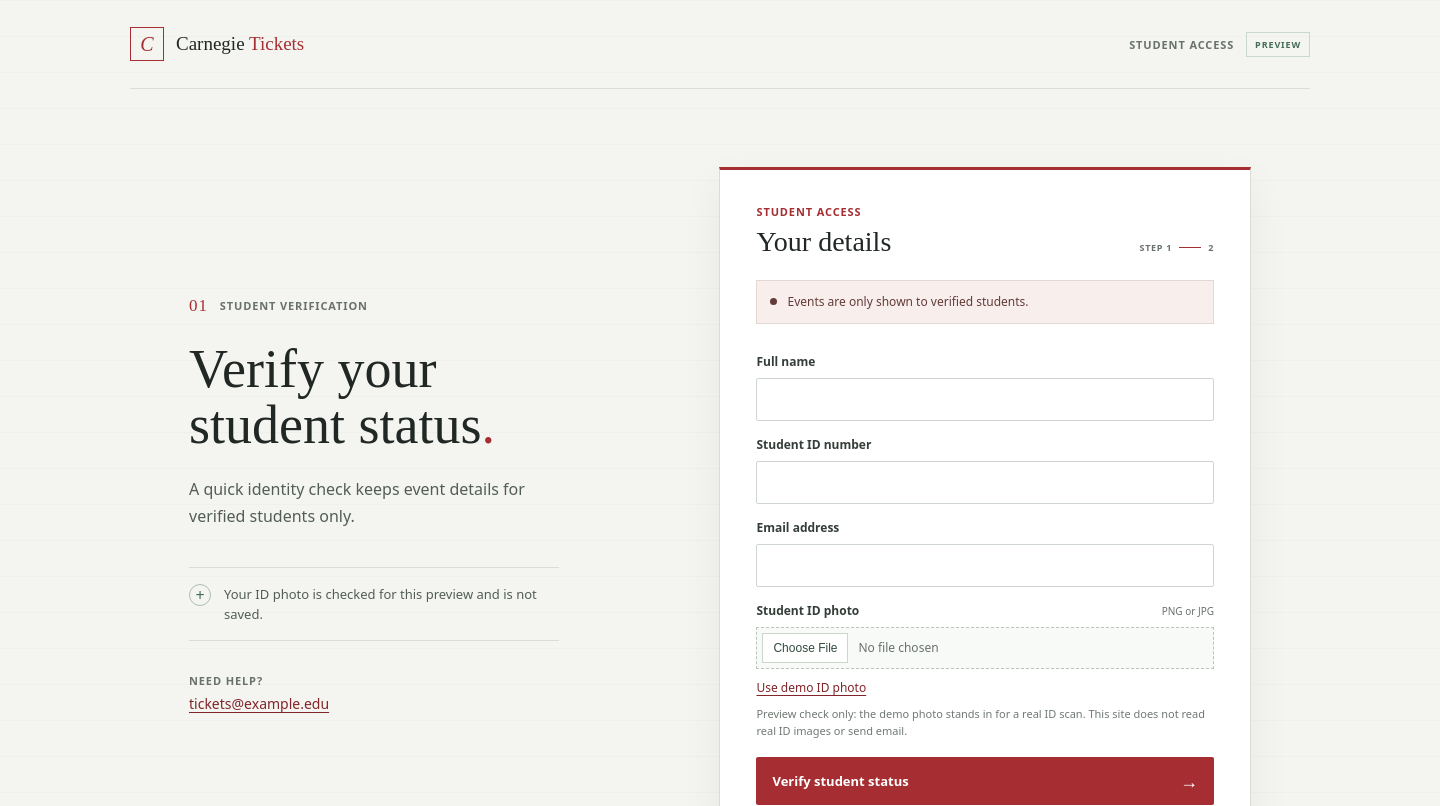
HW3 Story 7: Reserve event tickets for attendees › uses the normalized attendee name to prevent a second purchase for the same event
Step 1. Type "Jamie Rivera" into the field labelled "Full name" → (985, 400), box [756,378,1214,421]
Step 2. Type "A1234567" into the field labelled "Student ID number" → (985, 482), box [756,461,1214,504]
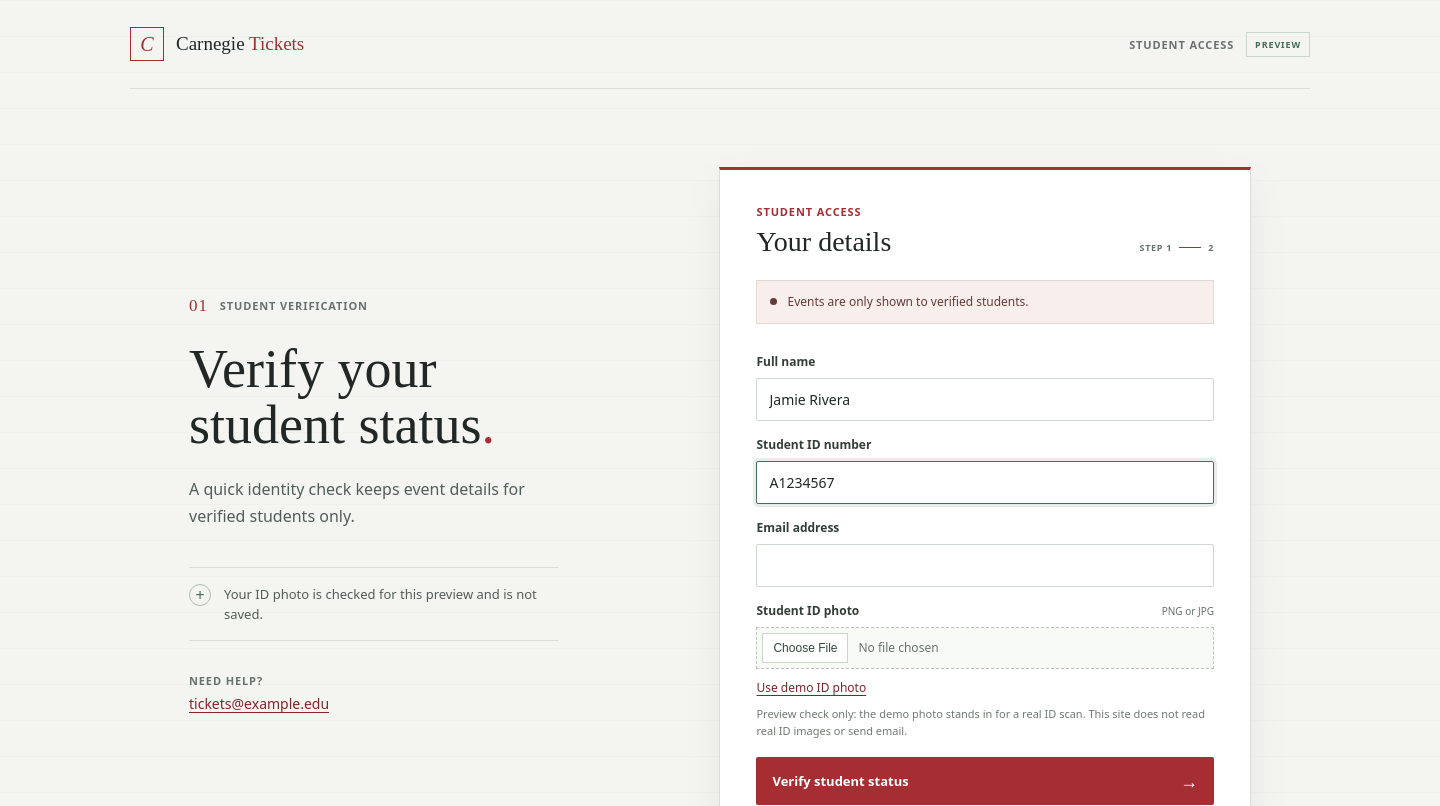
Step 3. Type "jamie@example.edu" into the field labelled "Email address" → (985, 566), box [756,544,1214,587]
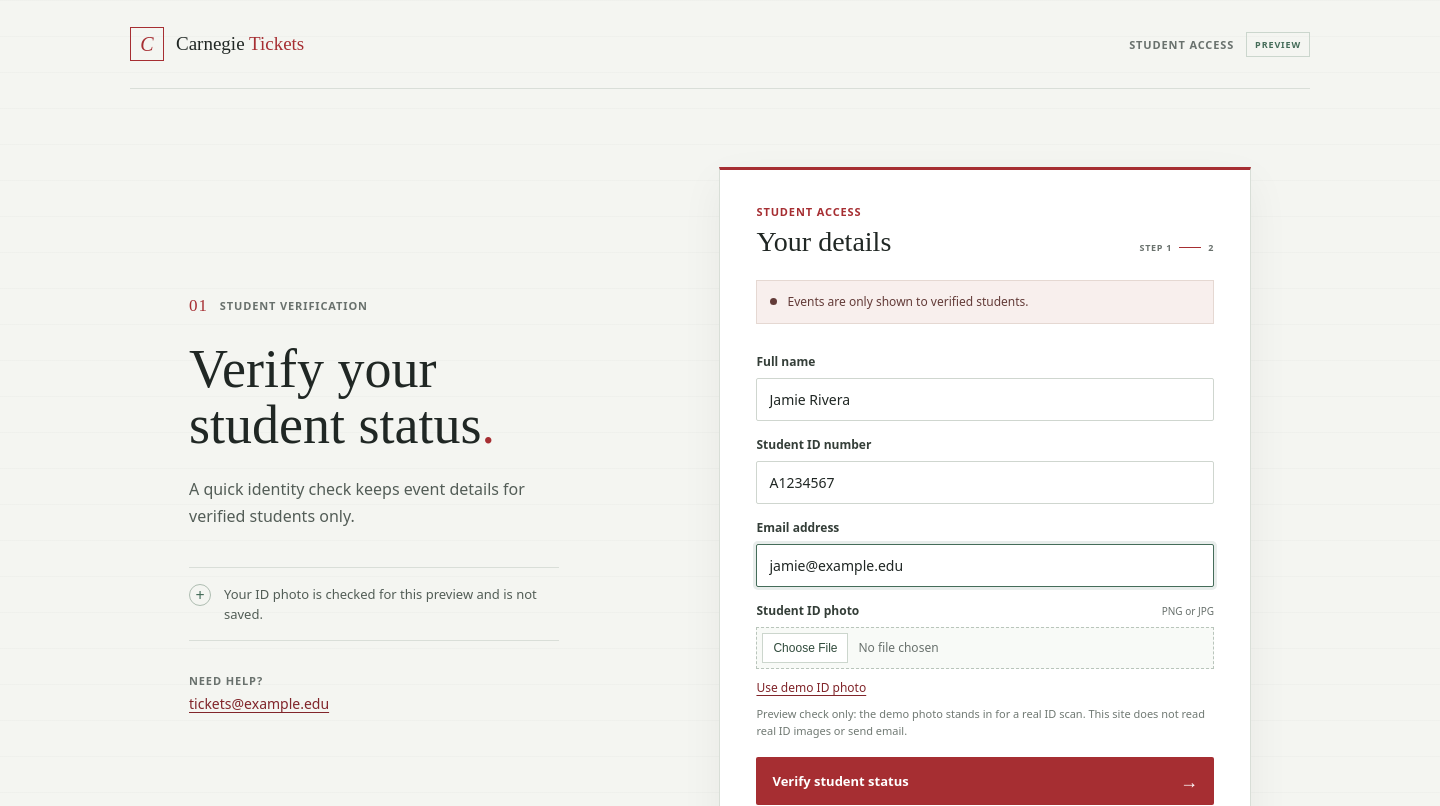
Step 4. Click the button "Use demo ID photo" → (811, 688), box [756,677,866,698]
(page scrolled)
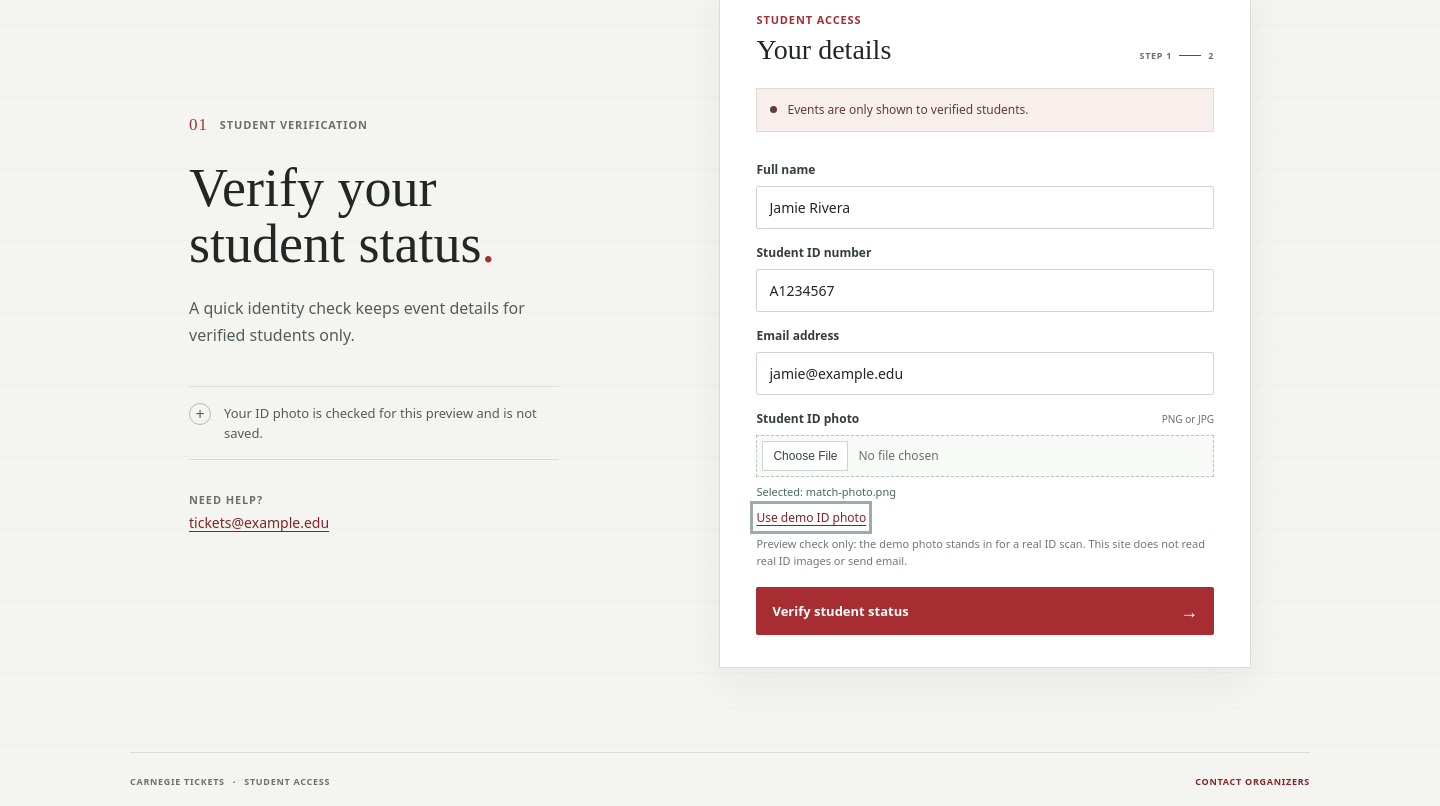
Step 5. Click the button "Verify student status →" → (841, 611), box [756,587,1214,635]
(page scrolled)
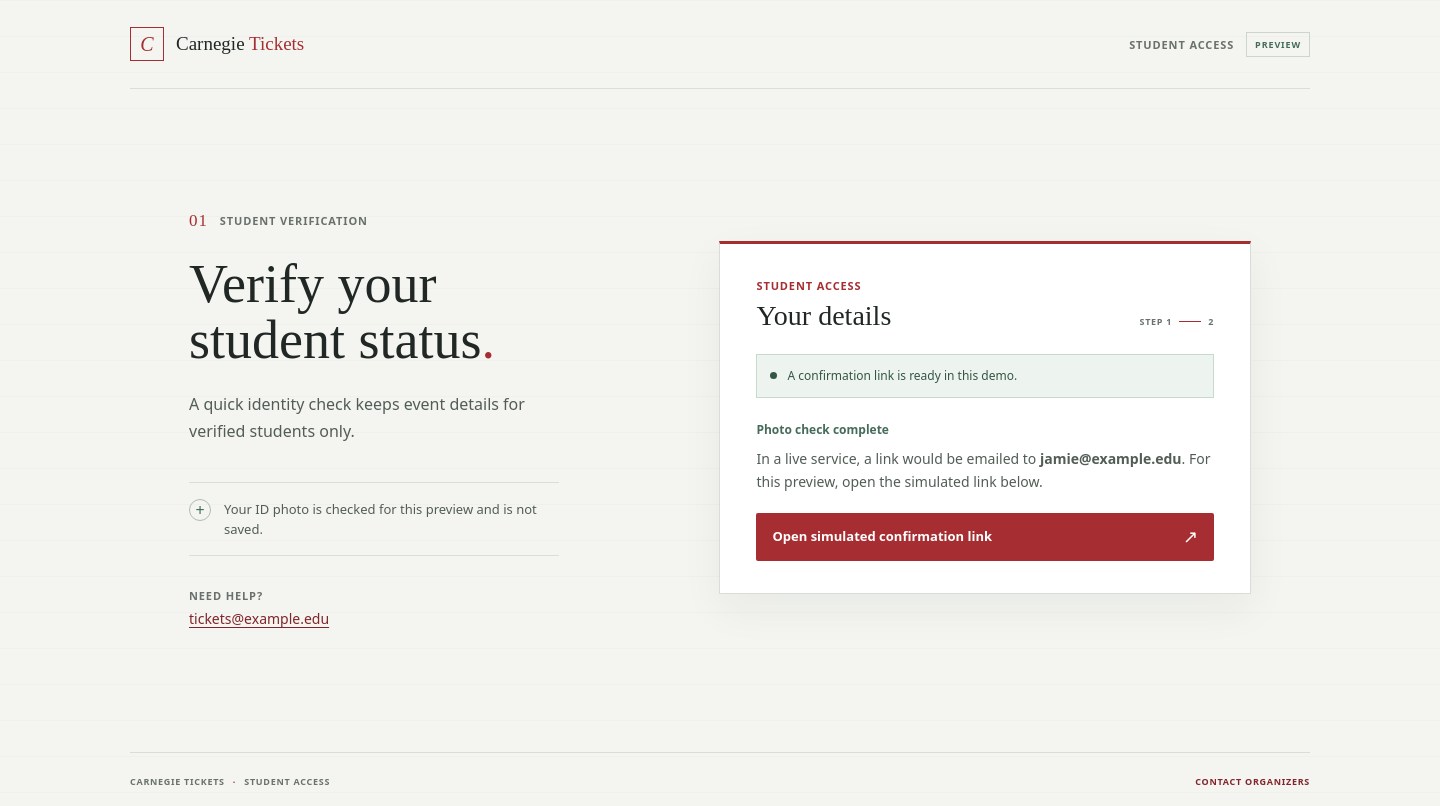
Step 6. Click the button "Open simulated confirmation link ↗" → (985, 537), box [756,513,1214,561]
(page scrolled)
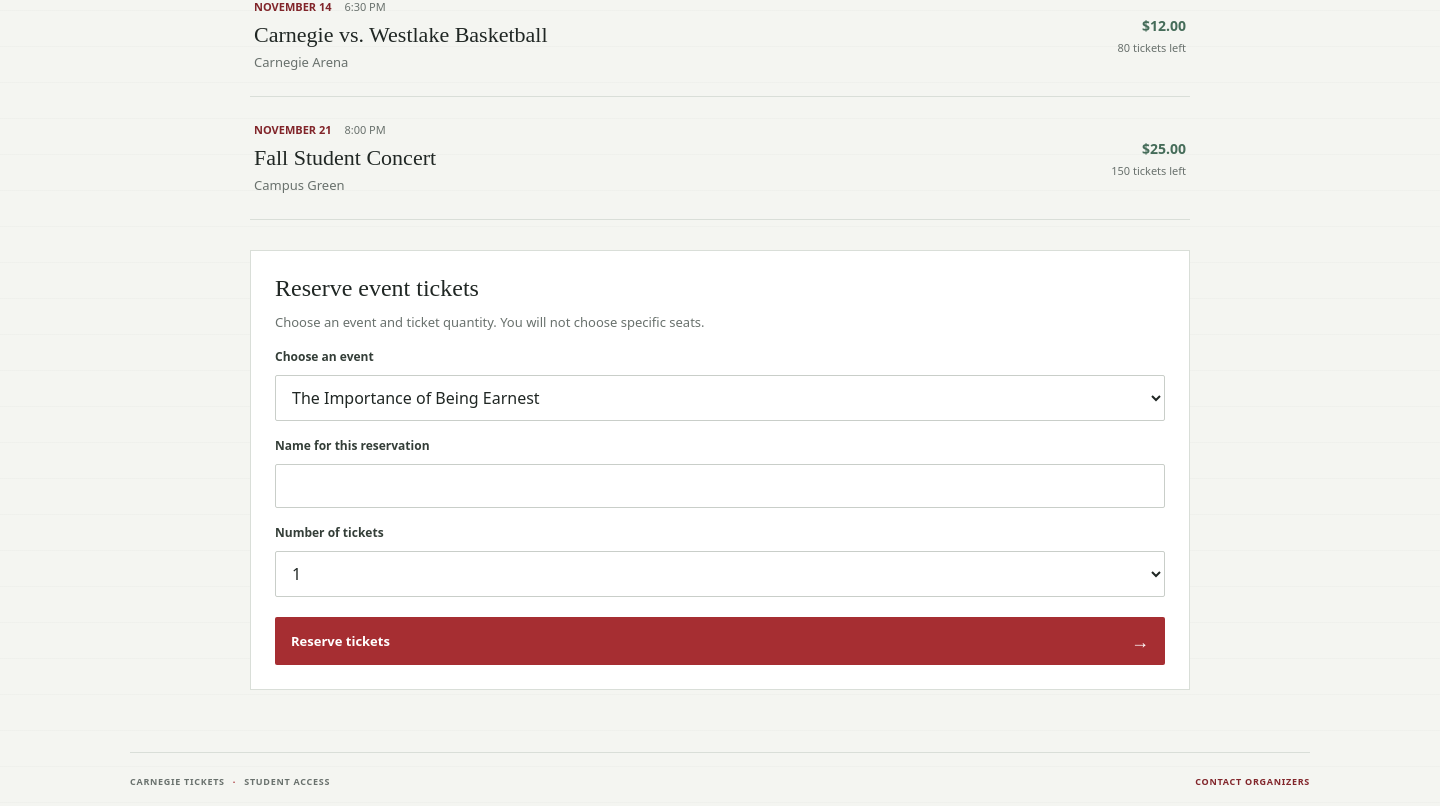
Step 7. Type "  JAMIE   RIVERA  " into the field labelled "Name for this reservation" → (720, 486), box [275,464,1165,508]
Step 8. Click the button "Reserve tickets →" → (340, 641), box [275,617,1165,665]
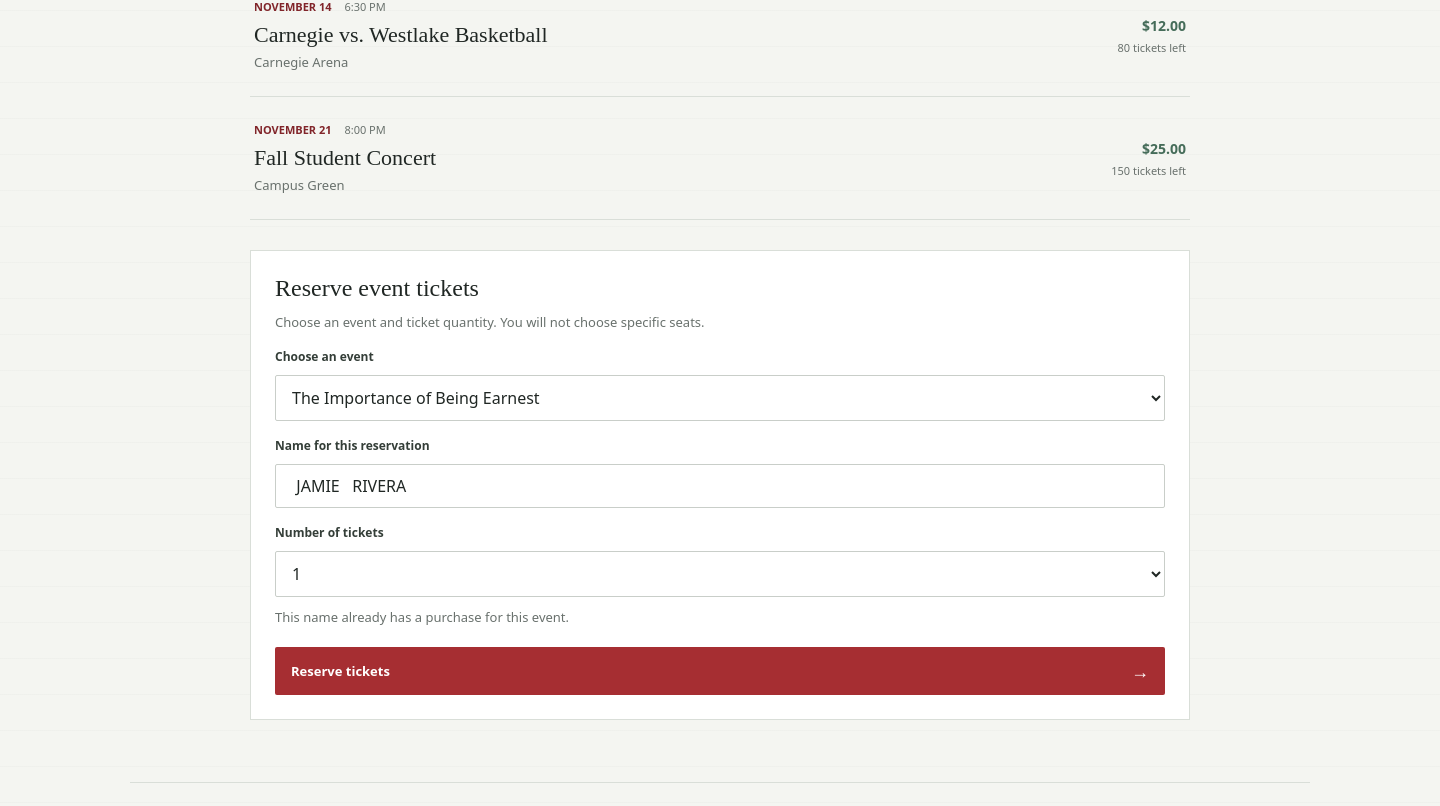
Now the text "This name already has a purchase for this event." is shown, box [275,608,569,626]
